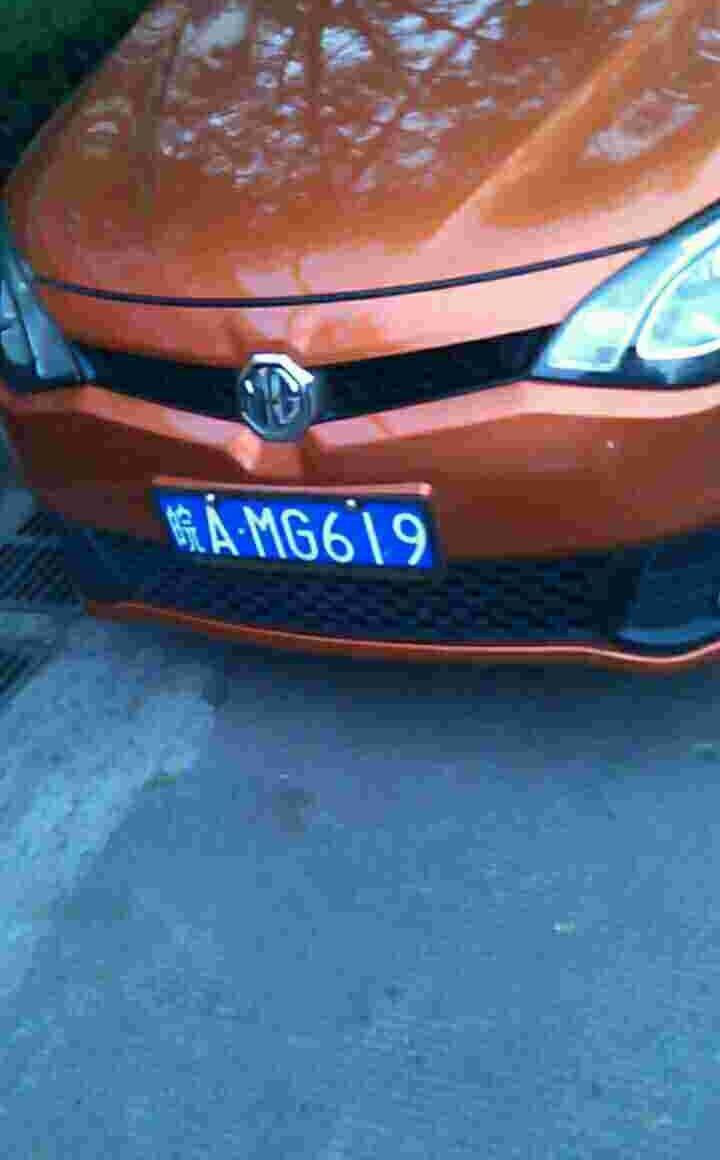license_plate: (144, 489, 441, 570)
